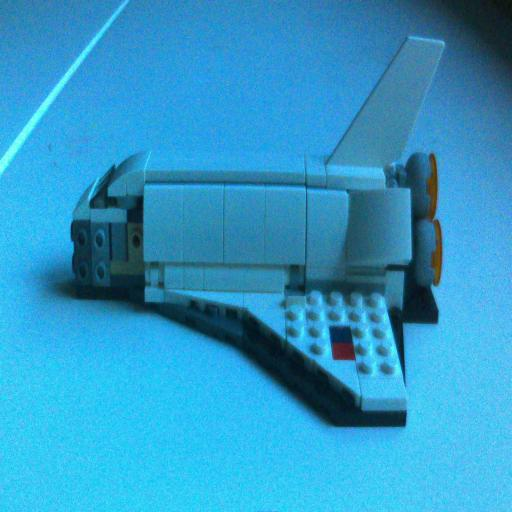defect_missingpiece: (70, 175, 146, 306)
